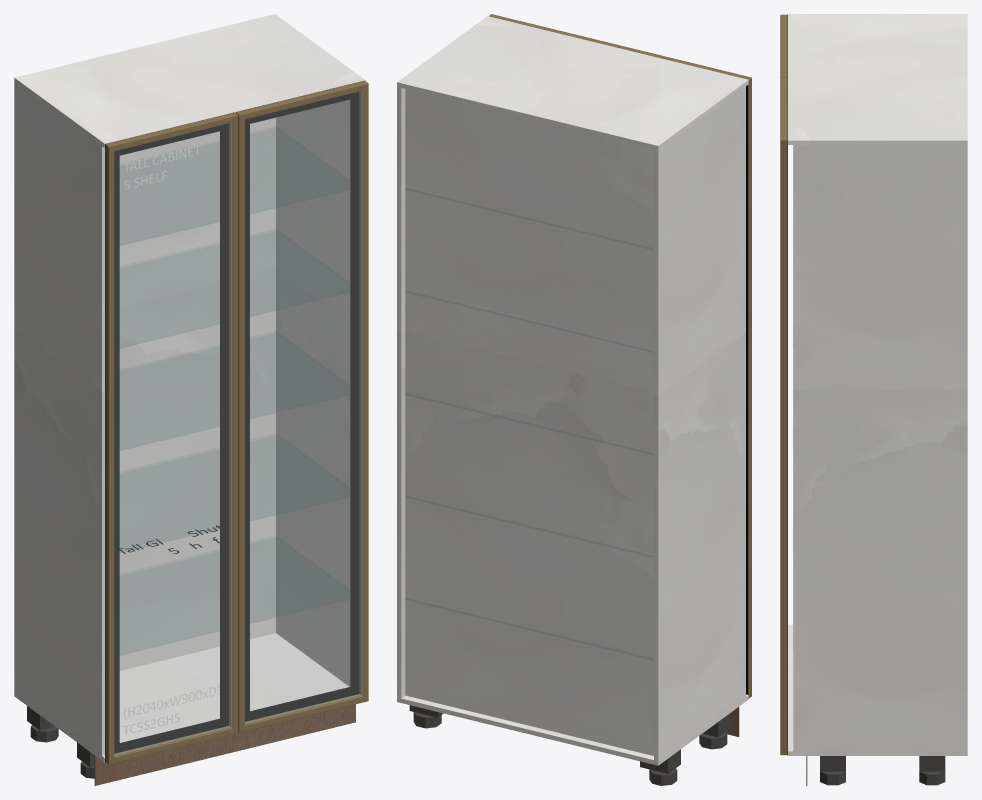
The model's file is TC-SH-STD-GL-5SG-2HS-XXX-900-2040-560-15.glb.
The picture shows the model from 3 angles, left to right: view 1: azimuth 30°, elevation 25°; view 2: azimuth 150°, elevation 25°; view 3: azimuth 270°, elevation 25°; orthographic projection.
Visible parts, largest first — view 1: Object_node_30, Object_node_34, TP_node_2, TP_node_0, TP_node_1, Neon 22 Profile ALU PROF NEON 20 L21XH22.5MM 3MTR S2/405 SEC (×8), TP, TP_node, Object_node_32, Object_node_36, Object_node_38, 2D text; view 2: TP_node_2, TP_node_0, TP, TP_node_1, TP_node, Neon 22 Profile ALU PROF NEON 20 L21XH22.5MM 3MTR S2/405 SEC, Object_node_32; view 3: TP_node_1, TP, Neon 22 Profile ALU PROF NEON 20 L21XH22.5MM 3MTR S2/405 SEC (×3), TP_node, Object_node_36, Plate_node, Plate_node_1, Foot_node, Foot_node_1.
Part boxes in pixels (x1=…): Object_node_30: x1=114, y1=123, x2=231, y2=756; Object_node_34: x1=245, y1=91, x2=362, y2=724; TP_node_2: x1=119, y1=117, x2=275, y2=670; TP_node_0: x1=14, y1=82, x2=104, y2=755; TP_node_1: x1=276, y1=99, x2=350, y2=686; Neon 22 Profile ALU PROF NEON 20 L21XH22.5MM 3MTR S2/405 SEC (×8): x1=105, y1=81, x2=368, y2=764; TP: x1=14, y1=14, x2=365, y2=148; TP_node: x1=14, y1=633, x2=348, y2=762; Object_node_32: x1=105, y1=112, x2=233, y2=761; Object_node_36: x1=236, y1=81, x2=360, y2=721; Object_node_38: x1=94, y1=704, x2=355, y2=785; 2D text: x1=123, y1=685, x2=219, y2=734; TP_node_2: x1=405, y1=89, x2=653, y2=755; TP_node_0: x1=654, y1=86, x2=745, y2=760; TP: x1=397, y1=16, x2=748, y2=150; TP_node_1: x1=397, y1=87, x2=405, y2=698; TP_node: x1=397, y1=694, x2=748, y2=765; Neon 22 Profile ALU PROF NEON 20 L21XH22.5MM 3MTR S2/405 SEC: x1=748, y1=78, x2=751, y2=698; Object_node_32: x1=746, y1=85, x2=748, y2=694; TP_node_1: x1=793, y1=145, x2=967, y2=751; TP: x1=788, y1=14, x2=967, y2=144; Neon 22 Profile ALU PROF NEON 20 L21XH22.5MM 3MTR S2/405 SEC (×3): x1=780, y1=14, x2=787, y2=754; TP_node: x1=788, y1=624, x2=967, y2=755; Object_node_36: x1=787, y1=78, x2=787, y2=754; Plate_node: x1=919, y1=756, x2=945, y2=771; Plate_node_1: x1=820, y1=756, x2=845, y2=771; Foot_node: x1=919, y1=771, x2=945, y2=785; Foot_node_1: x1=820, y1=771, x2=845, y2=785.
Size of what is drawn, in the model's own units: 0.9 by 2.14 by 0.5621.
9 materials, 2 textured.
